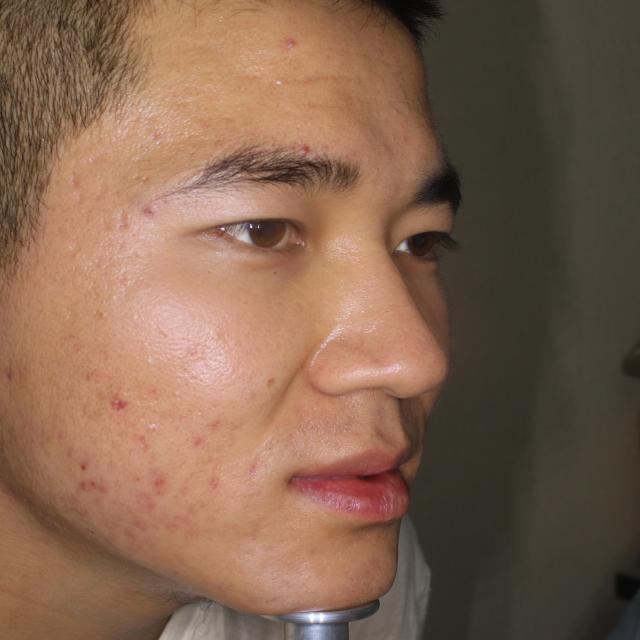pustule: (95, 469, 120, 508), (144, 468, 175, 498), (101, 390, 136, 412), (122, 518, 152, 542), (133, 201, 163, 218), (76, 474, 95, 499), (291, 139, 317, 157), (281, 32, 303, 52), (198, 417, 221, 431)
